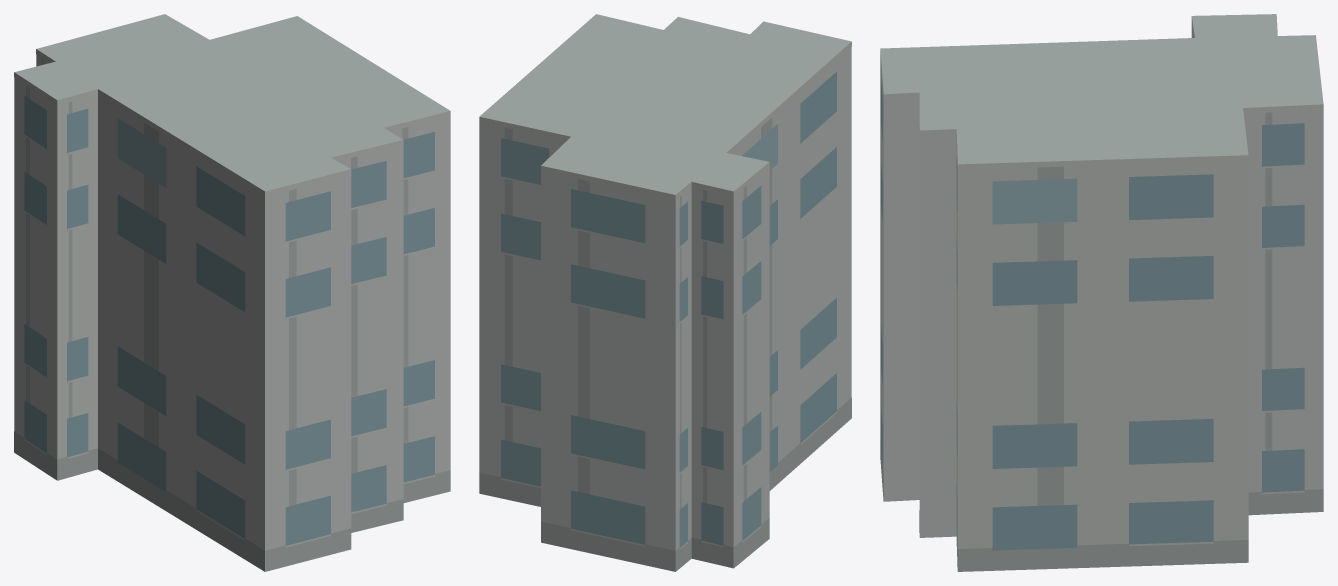
Rendered from survey-upis-32965165.glb.
3 views of the same model, side by side, from view 1: azimuth 30°, elevation 25°; view 2: azimuth 150°, elevation 25°; view 3: azimuth 270°, elevation 25° (orthographic). The views are drawn at different scales.
Visible parts, largest first — view 1: survey-upis-32965165.tmp; view 2: survey-upis-32965165.tmp; view 3: survey-upis-32965165.tmp.
Part boxes in pixels (box(x1,y1,x2,y2)): survey-upis-32965165.tmp: box(14, 14, 450, 571); survey-upis-32965165.tmp: box(479, 14, 851, 571); survey-upis-32965165.tmp: box(880, 14, 1323, 571).
Bounding box in the file's own units: 13.92 × 17.58 × 17.34.
